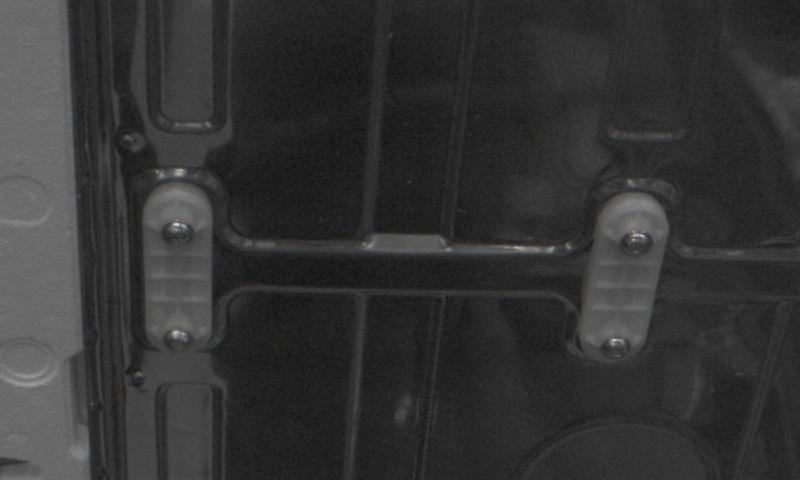vida-ok: (617, 224, 661, 263), (596, 327, 635, 366), (157, 213, 195, 253), (159, 321, 196, 356)
